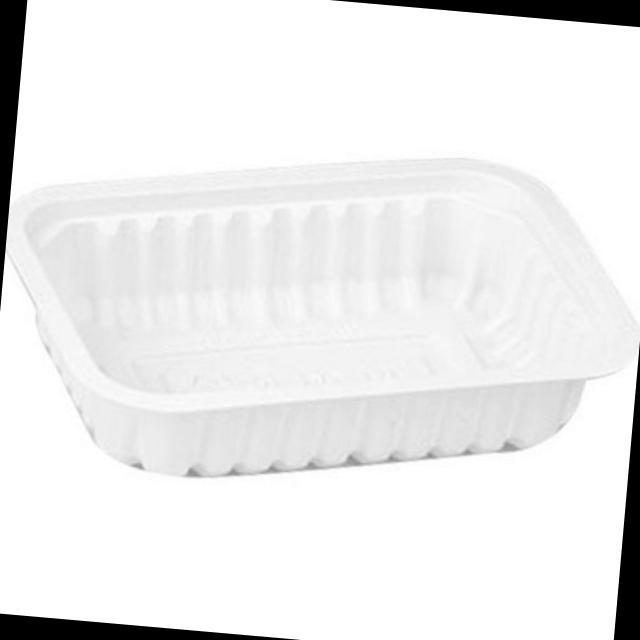container: (0, 139, 640, 492)
